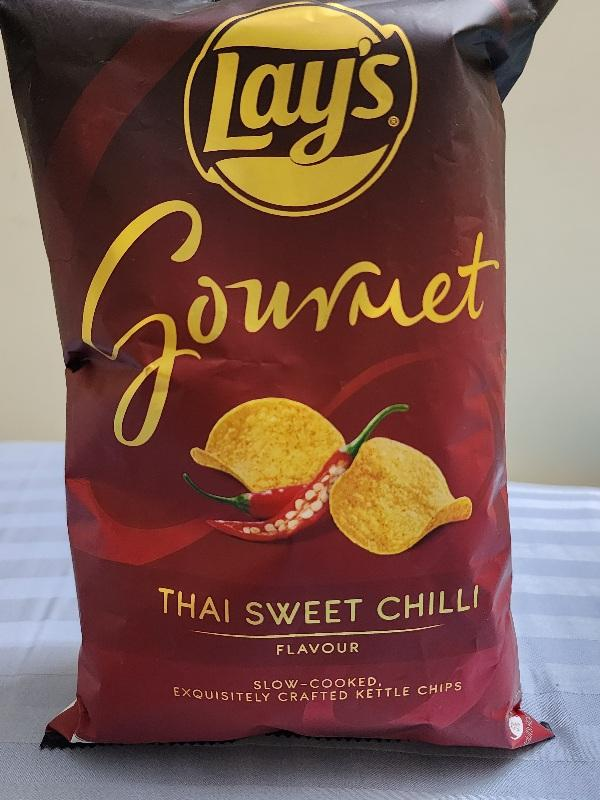Lays: (0, 0, 533, 737)
